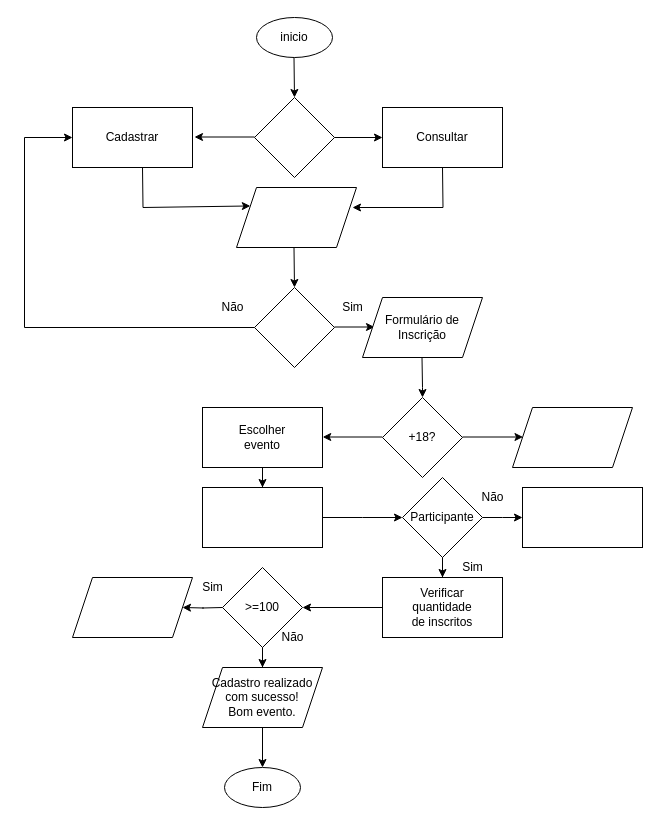
Some shapes in this 660 by 825 pixel diagram are drawn without their labels. The shapes that lost their labels are listed below. From the top down, each one's box as (x1, y1, x2, y2) in pixels, then its label:
(236, 186, 356, 248): Digite o nome
(254, 286, 334, 368): Nome existe?
(512, 406, 632, 468): Não é possível cadastrar.
(202, 486, 322, 548): Mostrar Listagem Participante e Palestrantes
(522, 486, 642, 548): Formulário Palestrante
(72, 576, 192, 638): Não há vagas.
